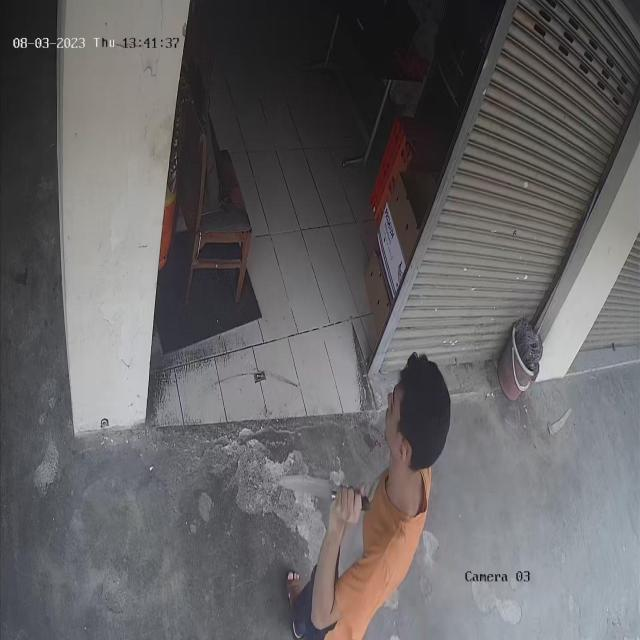Knife: (272, 464, 385, 518)
